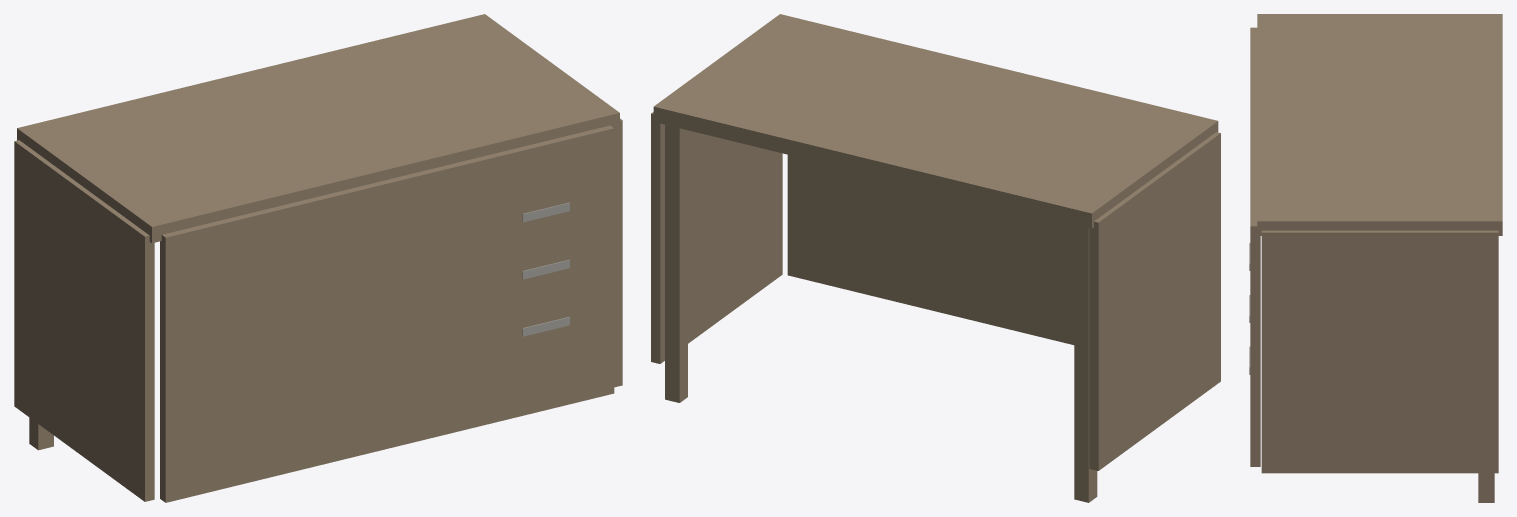
Rendered from prop_old_desk.fbx.
The picture shows the model from 3 angles, left to right: view 1: azimuth 30°, elevation 25°; view 2: azimuth 150°, elevation 25°; view 3: azimuth 270°, elevation 25°; orthographic projection. The views are drawn at different scales.
Parts seen in each view (by area): view 1: Desk_Front, Desk_Top, Desk_Side-0.6, Desk_Side0.6; view 2: Desk_Top, Desk_Front, Desk_Side-0.6, Desk_Side0.6, Desk_Leg0.56, Desk_Leg-0.56; view 3: Desk_Side0.6, Desk_Top, Desk_Front, Desk_Leg0.56.
Part boxes in pixels (left/top/right/bottom): Desk_Front: left=160, top=125, right=614, bottom=502; Desk_Top: left=17, top=14, right=619, bottom=243; Desk_Side-0.6: left=14, top=140, right=154, bottom=501; Desk_Side0.6: left=614, top=118, right=622, bottom=387; Desk_Top: left=653, top=14, right=1218, bottom=228; Desk_Front: left=787, top=154, right=1074, bottom=344; Desk_Side-0.6: left=1089, top=132, right=1220, bottom=470; Desk_Side0.6: left=651, top=112, right=782, bottom=363; Desk_Leg0.56: left=665, top=124, right=687, bottom=402; Desk_Leg-0.56: left=1074, top=224, right=1097, bottom=502; Desk_Side0.6: left=1261, top=230, right=1498, bottom=473; Desk_Top: left=1257, top=14, right=1502, bottom=235; Desk_Front: left=1250, top=27, right=1260, bottom=466; Desk_Leg0.56: left=1478, top=473, right=1494, bottom=502.
Bounding box in the file's own units: 123 × 77 × 62.
